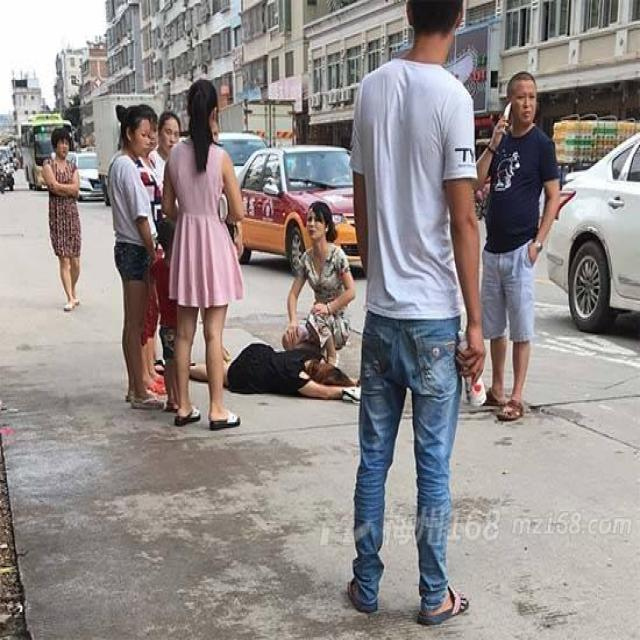fall: (343, 0, 468, 624), (474, 73, 562, 425), (169, 77, 243, 430), (109, 104, 163, 405), (188, 316, 364, 402), (289, 204, 357, 365), (39, 130, 82, 316)
